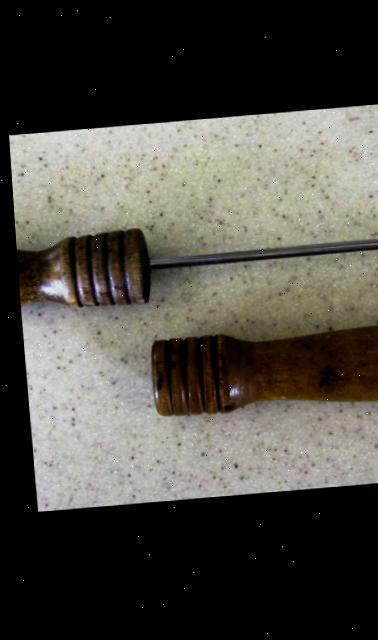ice pick: (12, 210, 378, 314), (141, 325, 378, 425)
